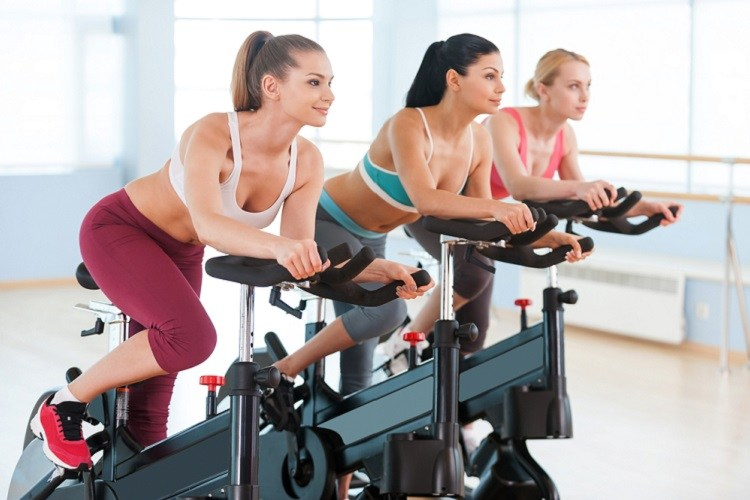gym_bike: (15, 262, 347, 500)
